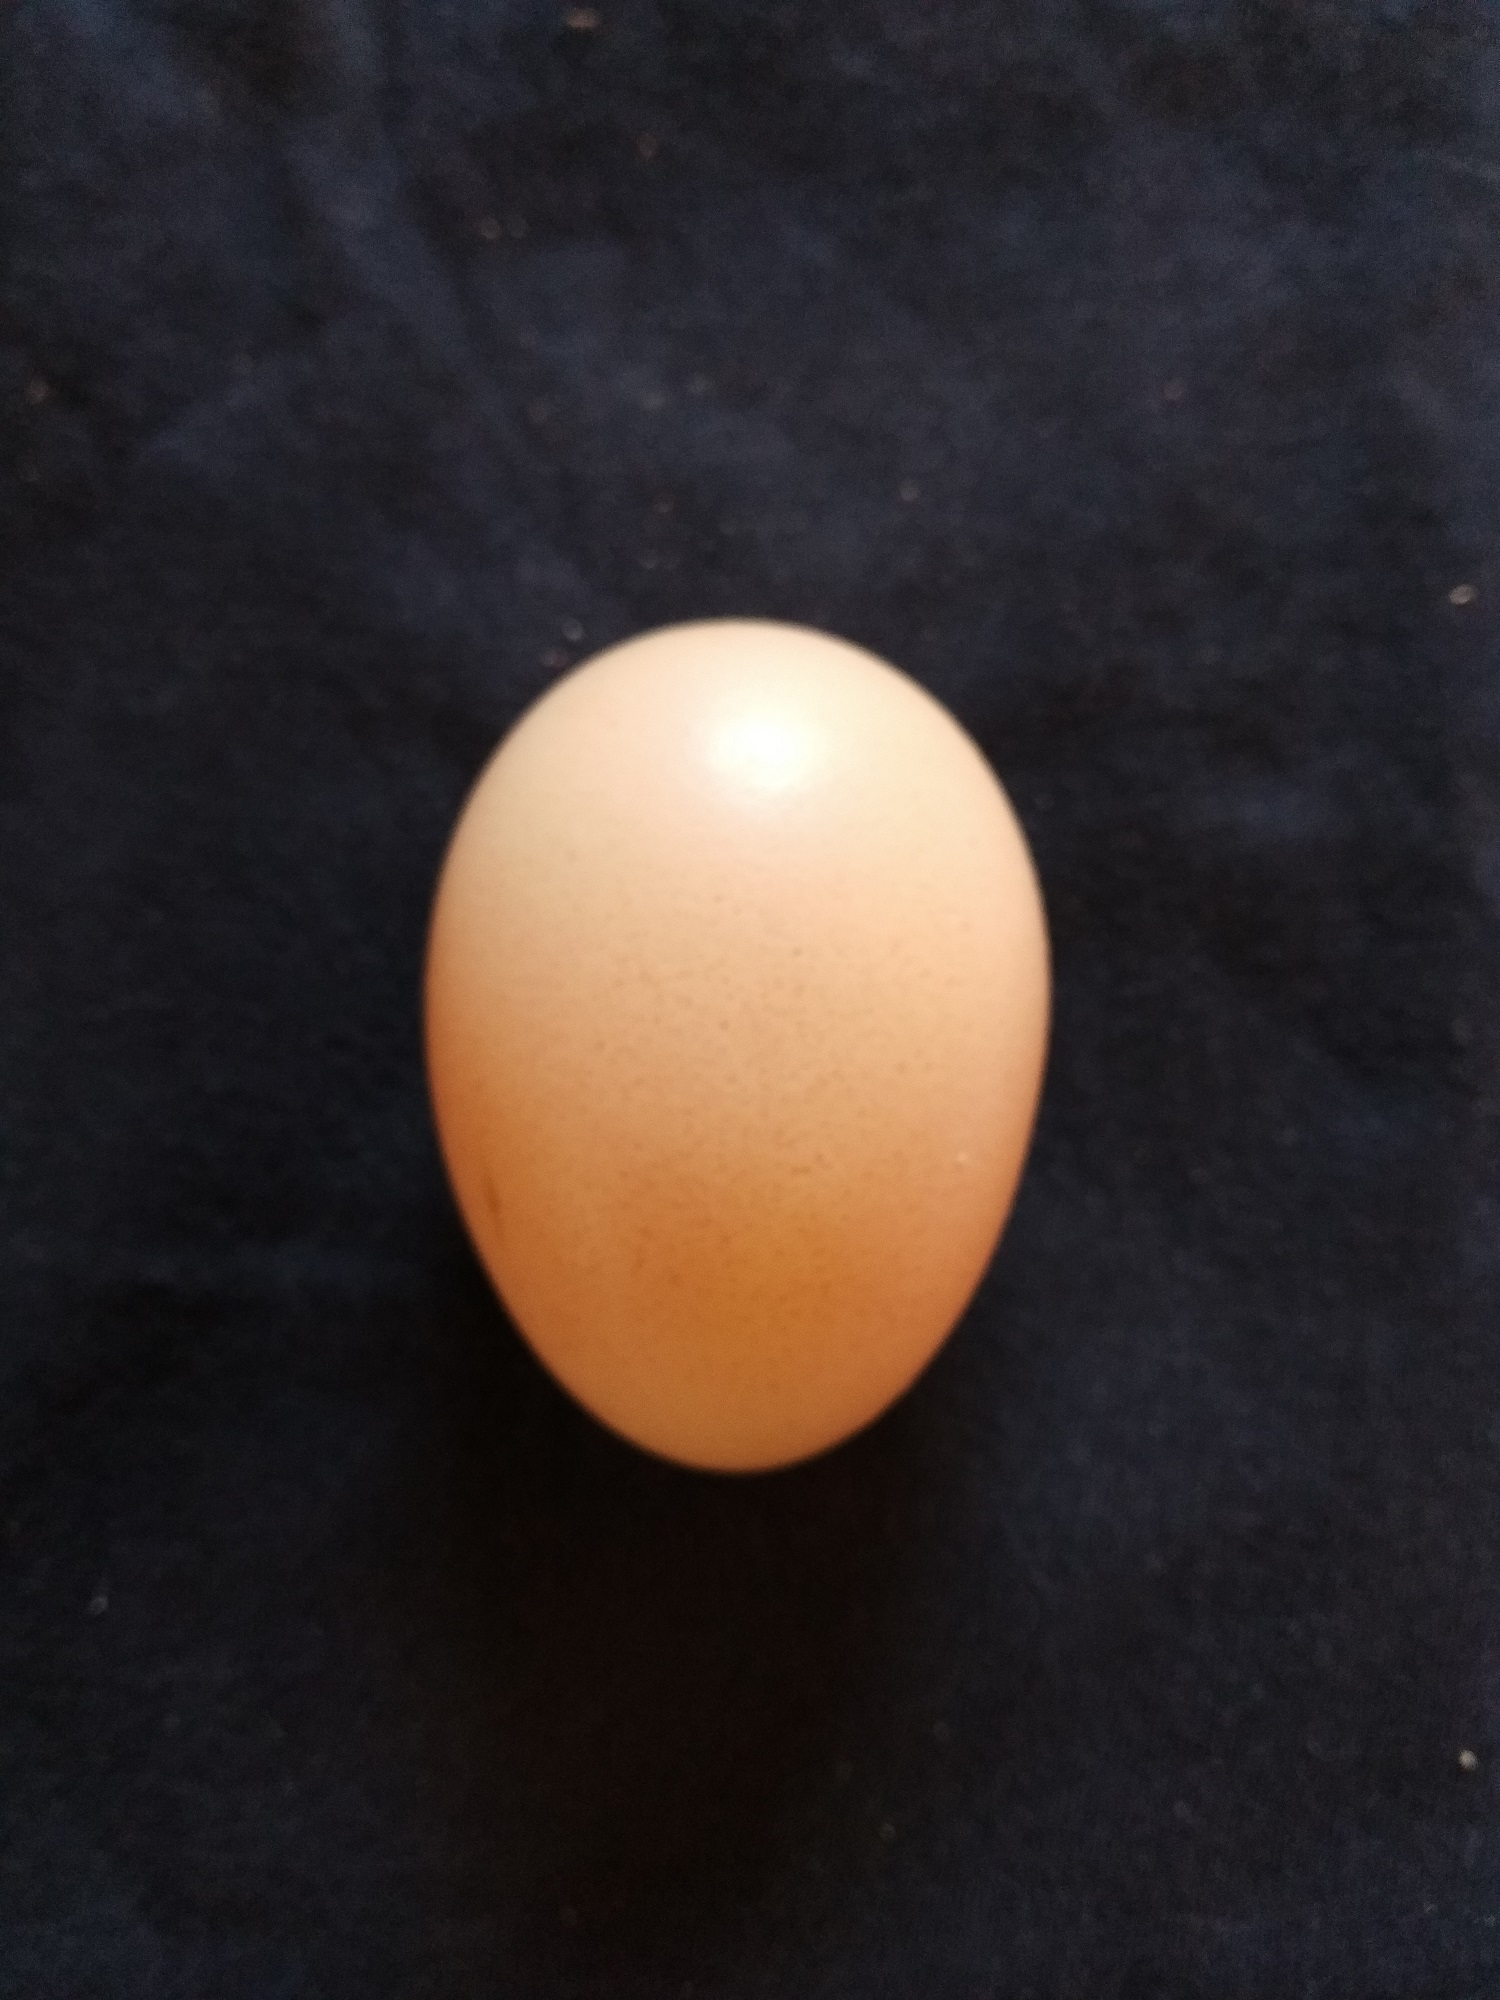Female: (413, 606, 1062, 1479)
